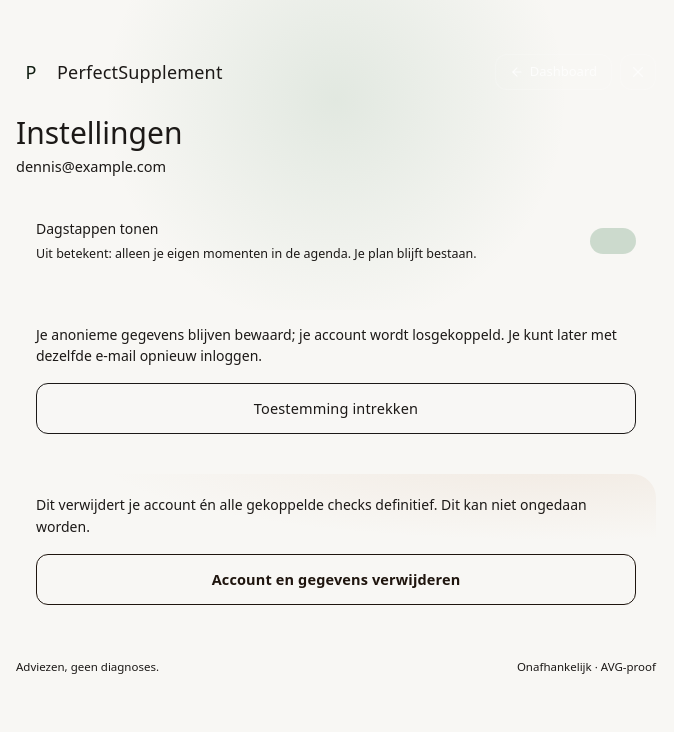
AccountSettings — dashboard-instellingen › toont de foutmelding in de pagina zelf als een mutatie faalt, en meet geen succes
Click the switch named "Dagstappen tonen" at (613, 241), box [590, 228, 636, 254]
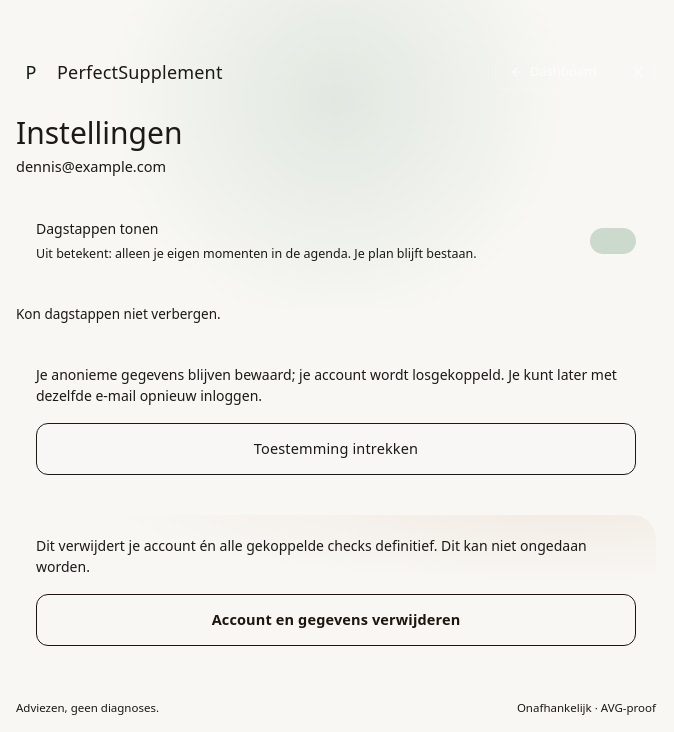
expect the message reads "Kon dagstappen niet verbergen.": met, box [16, 304, 221, 322]
